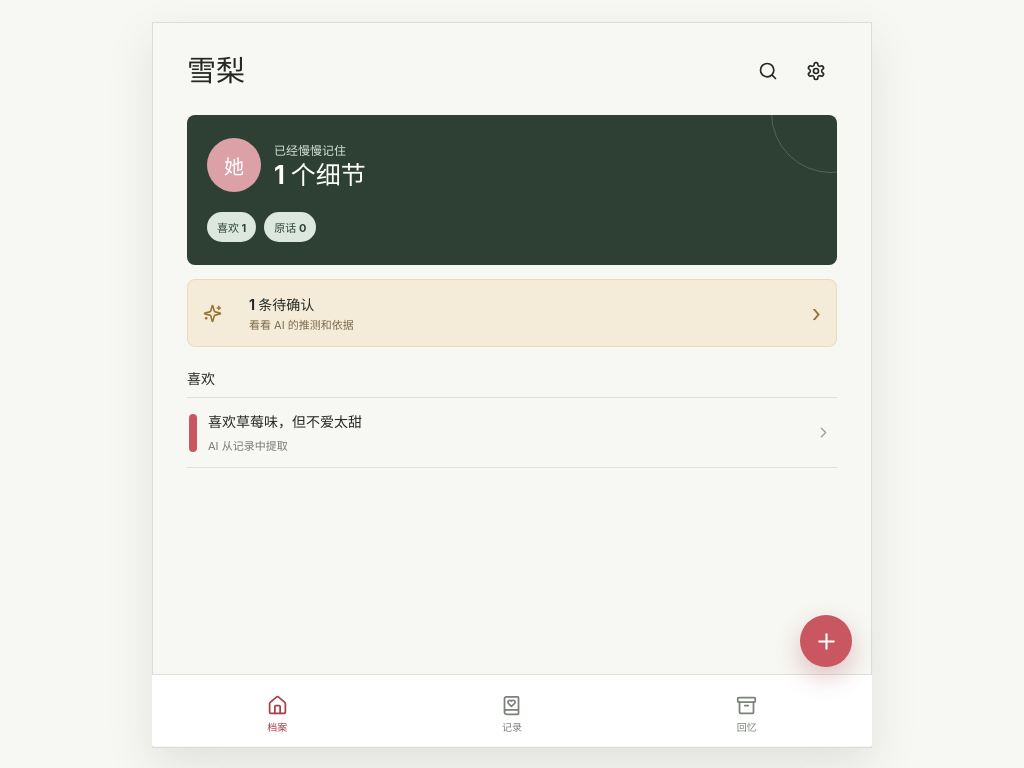
Test: App › 搜索同时匹配档案和原始记录
Click the button named "搜索" at x=768, y=71, box [747,50,789,92]
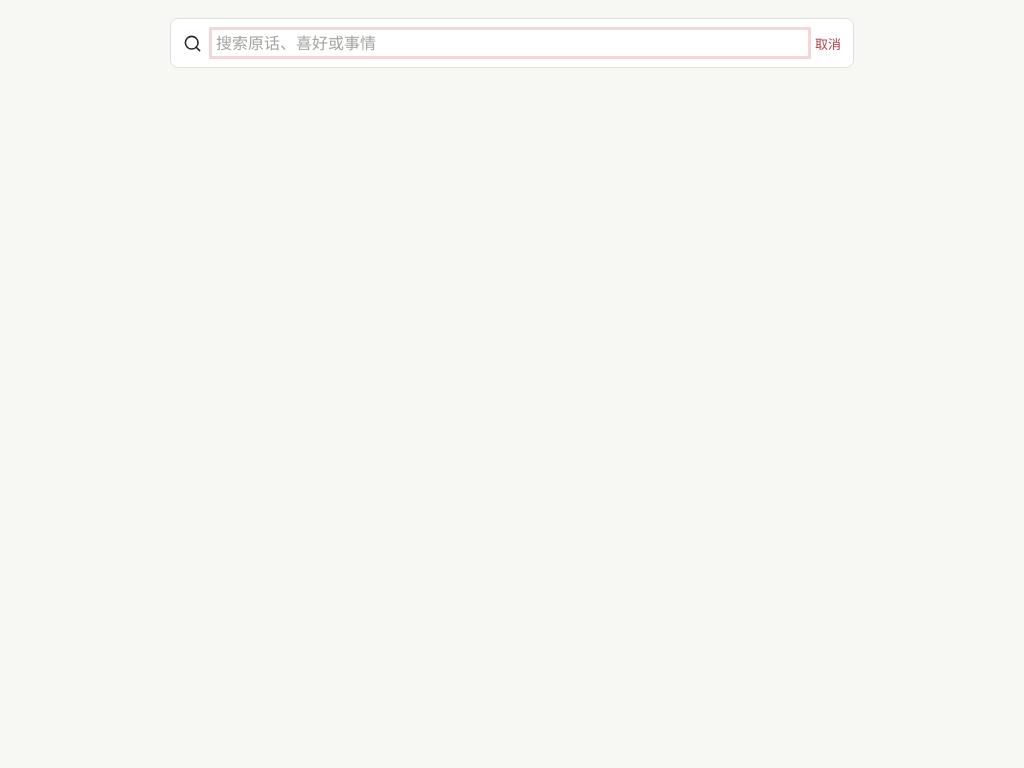
Type "草莓" into the field named "搜索记忆" at x=510, y=43, box [214,32,806,54]
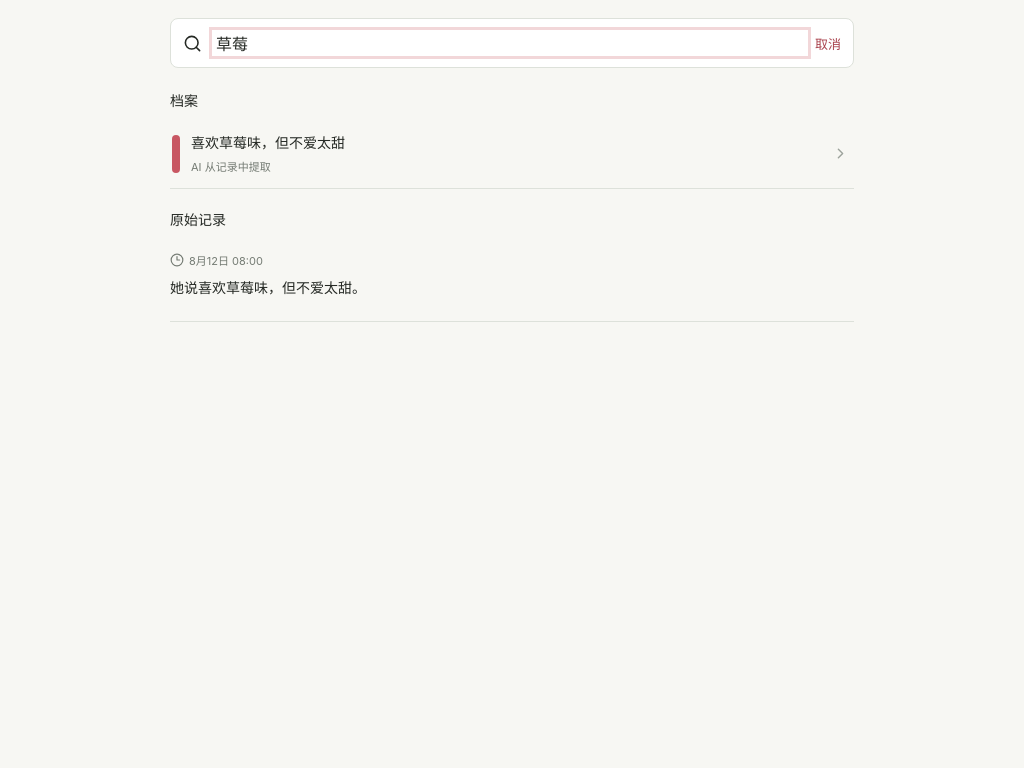
Expected: the text "喜欢草莓味，但不爱太甜" is shown, [191,134,345,151]
Expected: the text "她说喜欢草莓味，但不爱太甜。" is shown, [170,279,366,296]
